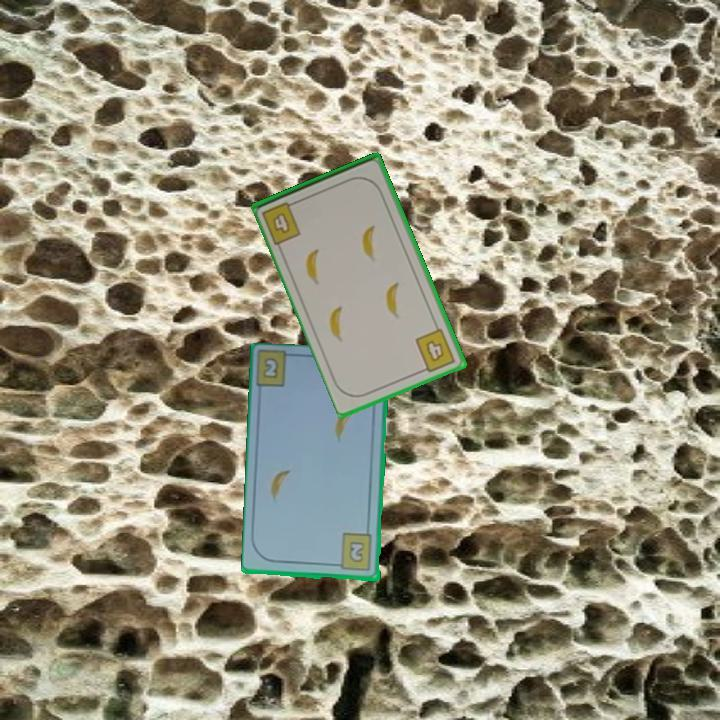2b: (332, 531, 375, 574), (260, 354, 281, 382)
4b: (412, 325, 458, 376), (258, 197, 304, 247)
